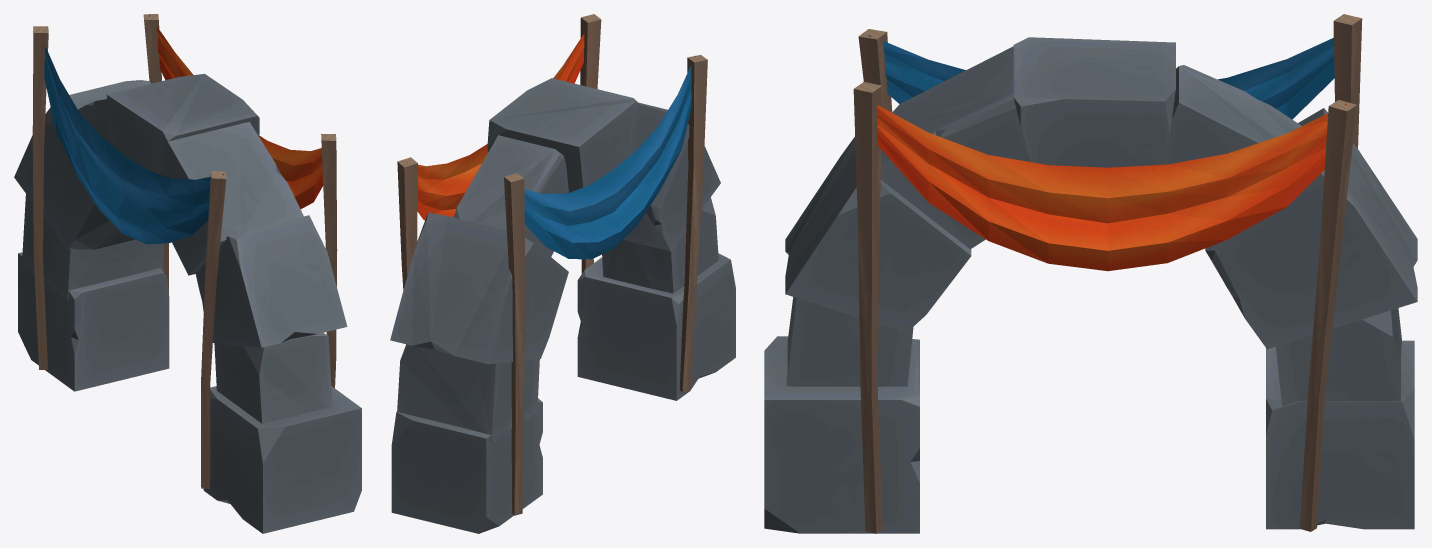
File: WallEntrance2B-001_40_11_0666.fbx
3 views of the same model, side by side, from view 1: azimuth 30°, elevation 25°; view 2: azimuth 150°, elevation 25°; view 3: azimuth 270°, elevation 25° (orthographic). The views are drawn at different scales.
Parts seen in each view (by area): view 1: Arch, Cloth1 (1) (×2), Wood1.002 (3) (×2), Wood1.002 (2) (×2); view 2: Arch, Cloth1 (1) (×2), Wood1.002 (2) (×2), Wood1.002 (3) (×2); view 3: Arch, Cloth1 (1) (×2), Wood1.002 (3) (×2), Wood1.002 (2) (×2).
Part boxes in pixels (x1=…): Arch: x1=14, y1=73, x2=361, y2=533; Cloth1 (1) (×2): x1=44, y1=15, x2=323, y2=244; Wood1.002 (3) (×2): x1=32, y1=26, x2=337, y2=387; Wood1.002 (2) (×2): x1=143, y1=14, x2=226, y2=488; Arch: x1=390, y1=78, x2=735, y2=533; Cloth1 (1) (×2): x1=406, y1=33, x2=695, y2=259; Wood1.002 (2) (×2): x1=397, y1=55, x2=707, y2=391; Wood1.002 (3) (×2): x1=504, y1=14, x2=601, y2=515; Arch: x1=764, y1=37, x2=1417, y2=533; Cloth1 (1) (×2): x1=868, y1=35, x2=1346, y2=271; Wood1.002 (3) (×2): x1=853, y1=14, x2=1362, y2=533; Wood1.002 (2) (×2): x1=858, y1=29, x2=1357, y2=531.
Bounding box in the file's own units: 1.9 × 4.53 × 5.96.
